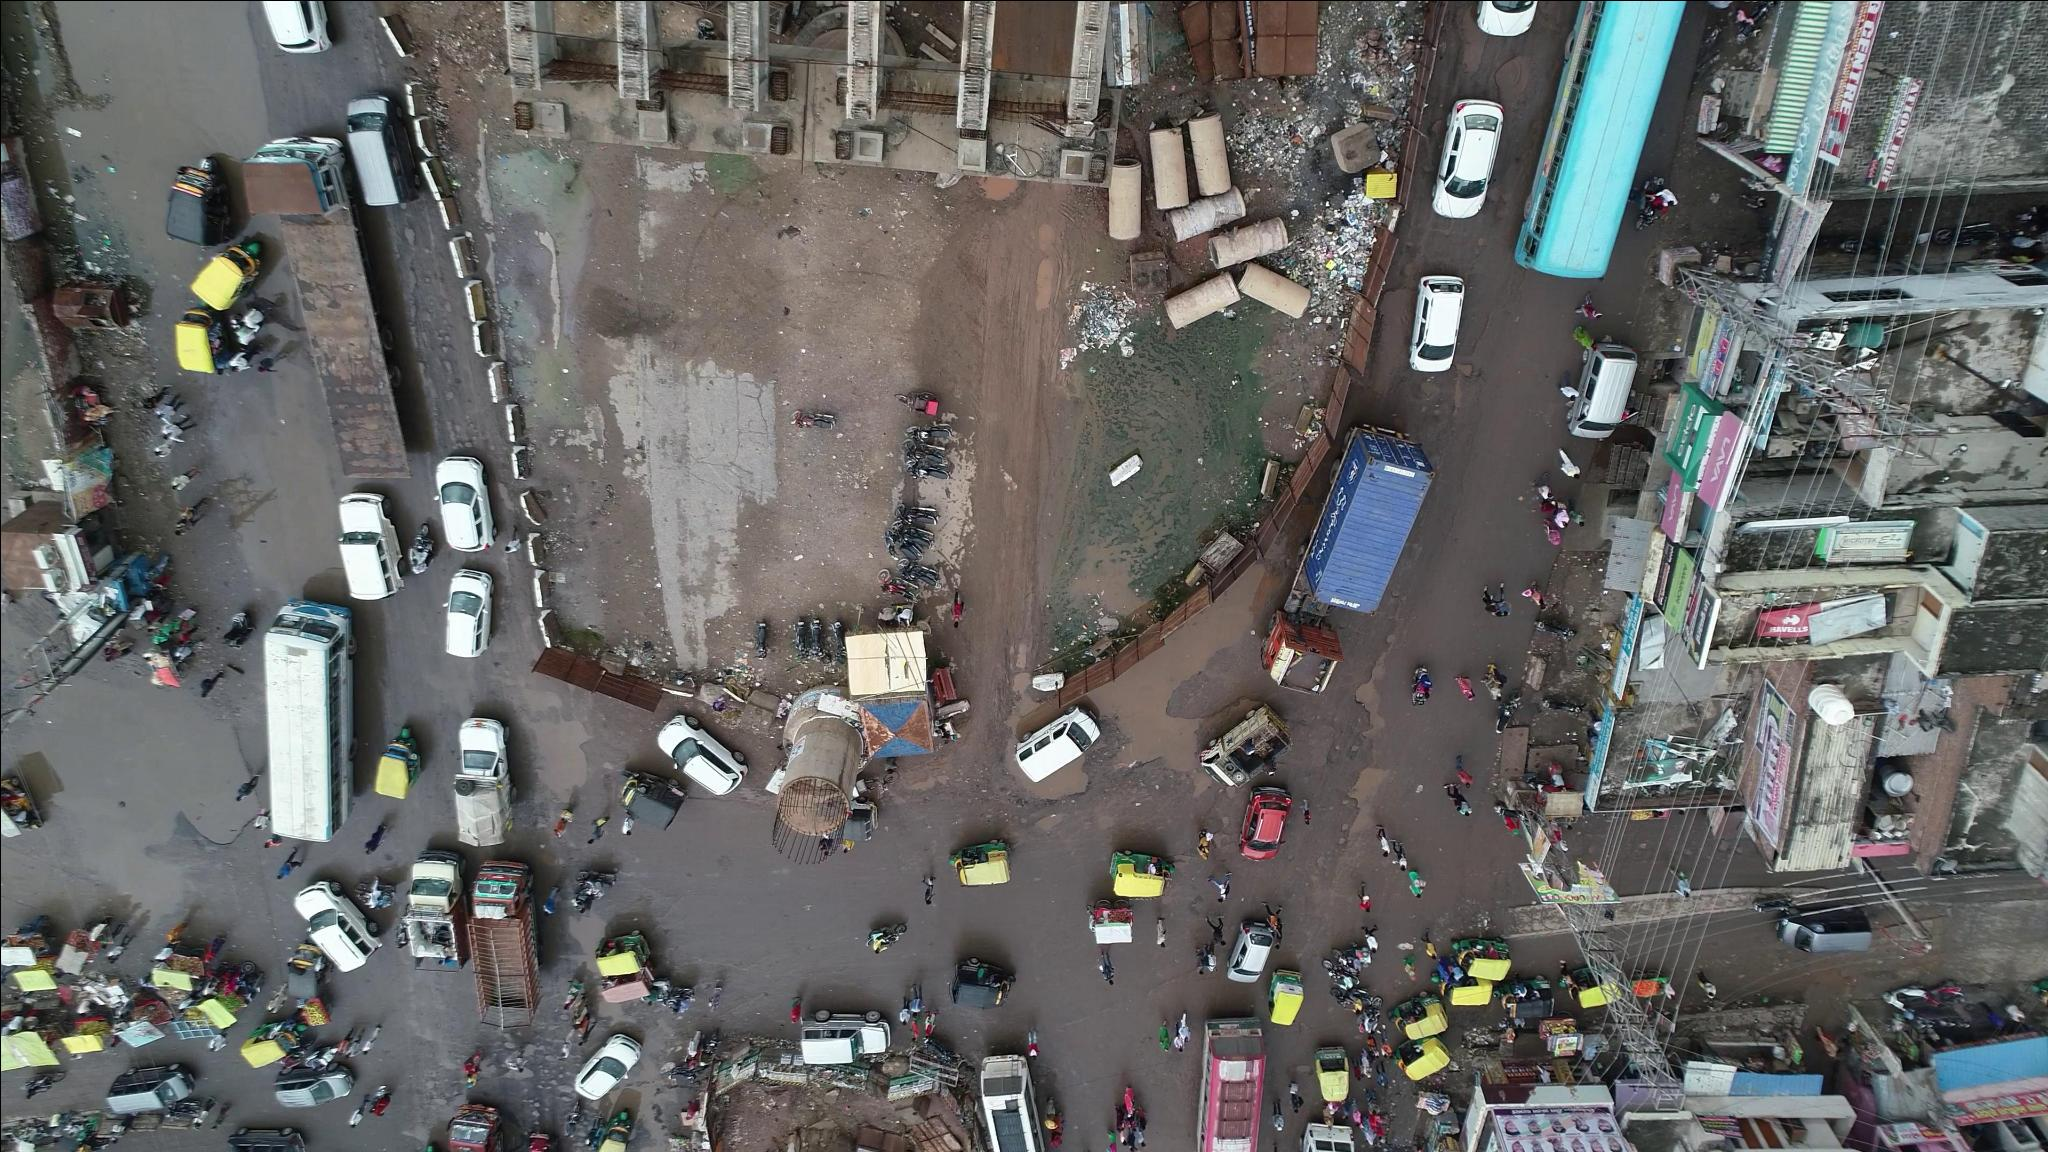Potholes: (1322, 793, 1376, 866)
